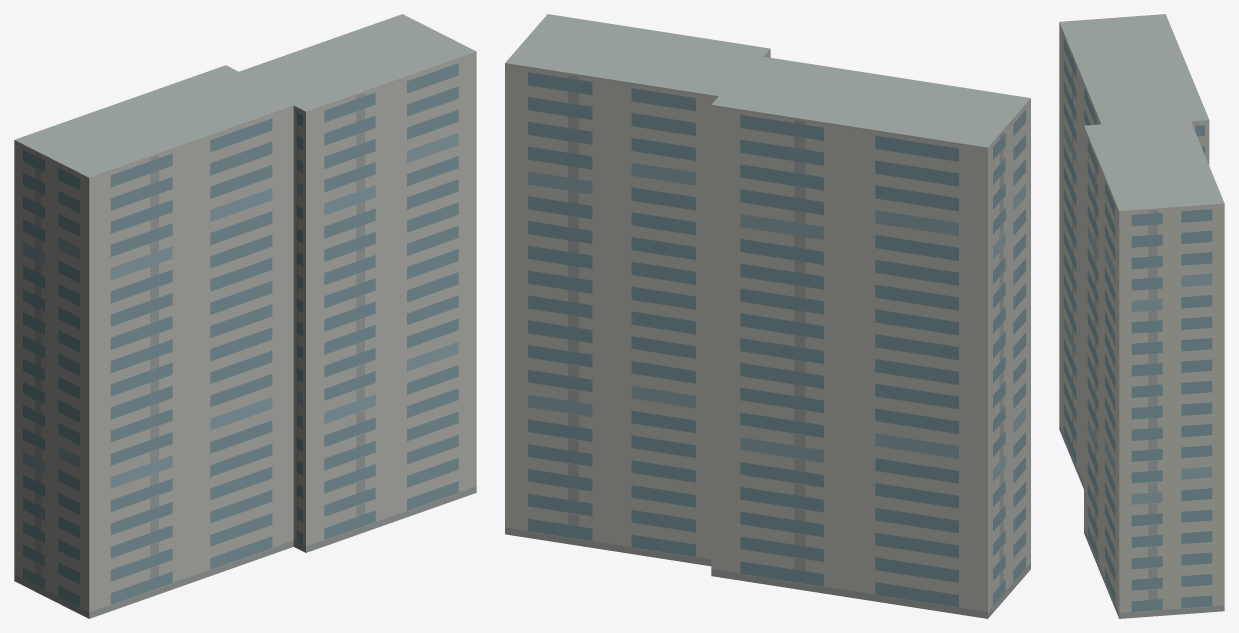
Rendered from residential-b889827c-54dd-4576-878b-ee89182bbe29.glb.
3 renders of one model, left to right at view 1: azimuth 30°, elevation 25°; view 2: azimuth 150°, elevation 25°; view 3: azimuth 270°, elevation 25°, orthographic. The views are drawn at different scales.
Visible parts, largest first — view 1: residential-b889827c-54dd-4576-878b-ee89182bbe29.tmp; view 2: residential-b889827c-54dd-4576-878b-ee89182bbe29.tmp; view 3: residential-b889827c-54dd-4576-878b-ee89182bbe29.tmp.
Part boxes in pixels (bbox=[...]): residential-b889827c-54dd-4576-878b-ee89182bbe29.tmp: bbox=[14, 14, 476, 618]; residential-b889827c-54dd-4576-878b-ee89182bbe29.tmp: bbox=[505, 14, 1030, 618]; residential-b889827c-54dd-4576-878b-ee89182bbe29.tmp: bbox=[1059, 14, 1224, 618].
Bounding box in the file's own units: 54.98 × 53 × 19.48.
